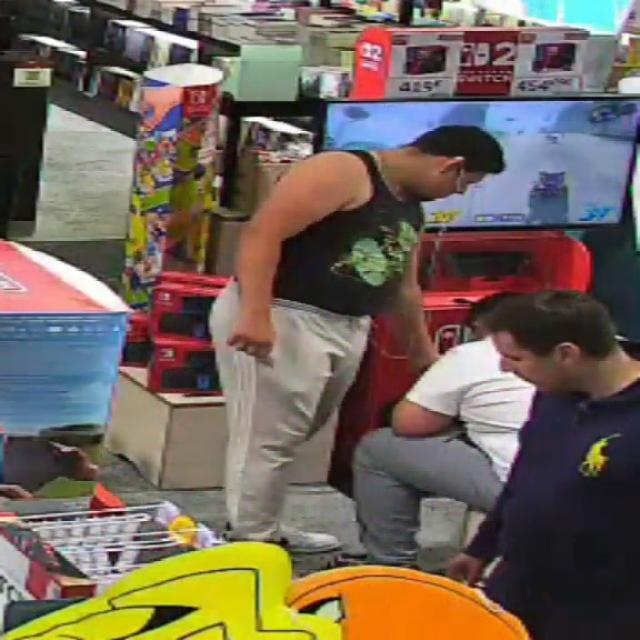hands: (228, 310, 275, 360), (449, 554, 486, 586)
person: (210, 126, 504, 553), (450, 292, 639, 639), (354, 294, 533, 565)
